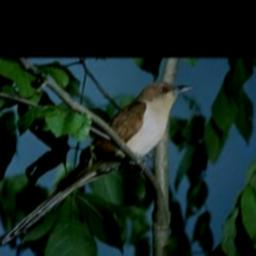Cuckoo: (0, 79, 198, 251)
